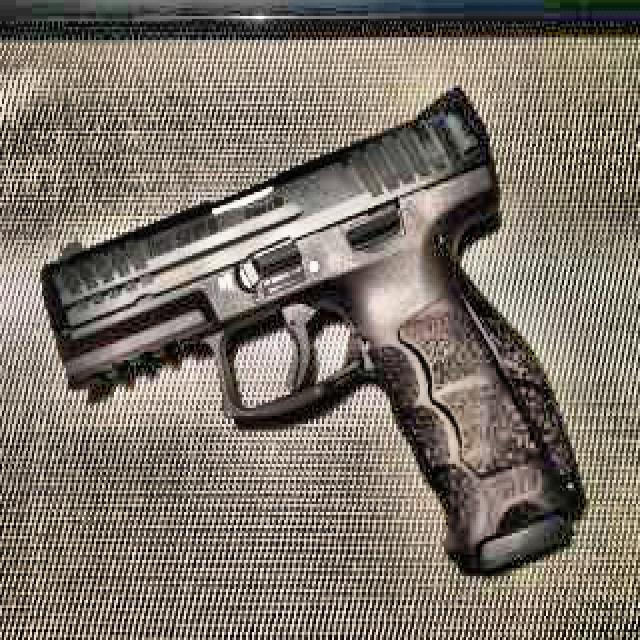HKVP9: (38, 80, 588, 576)
